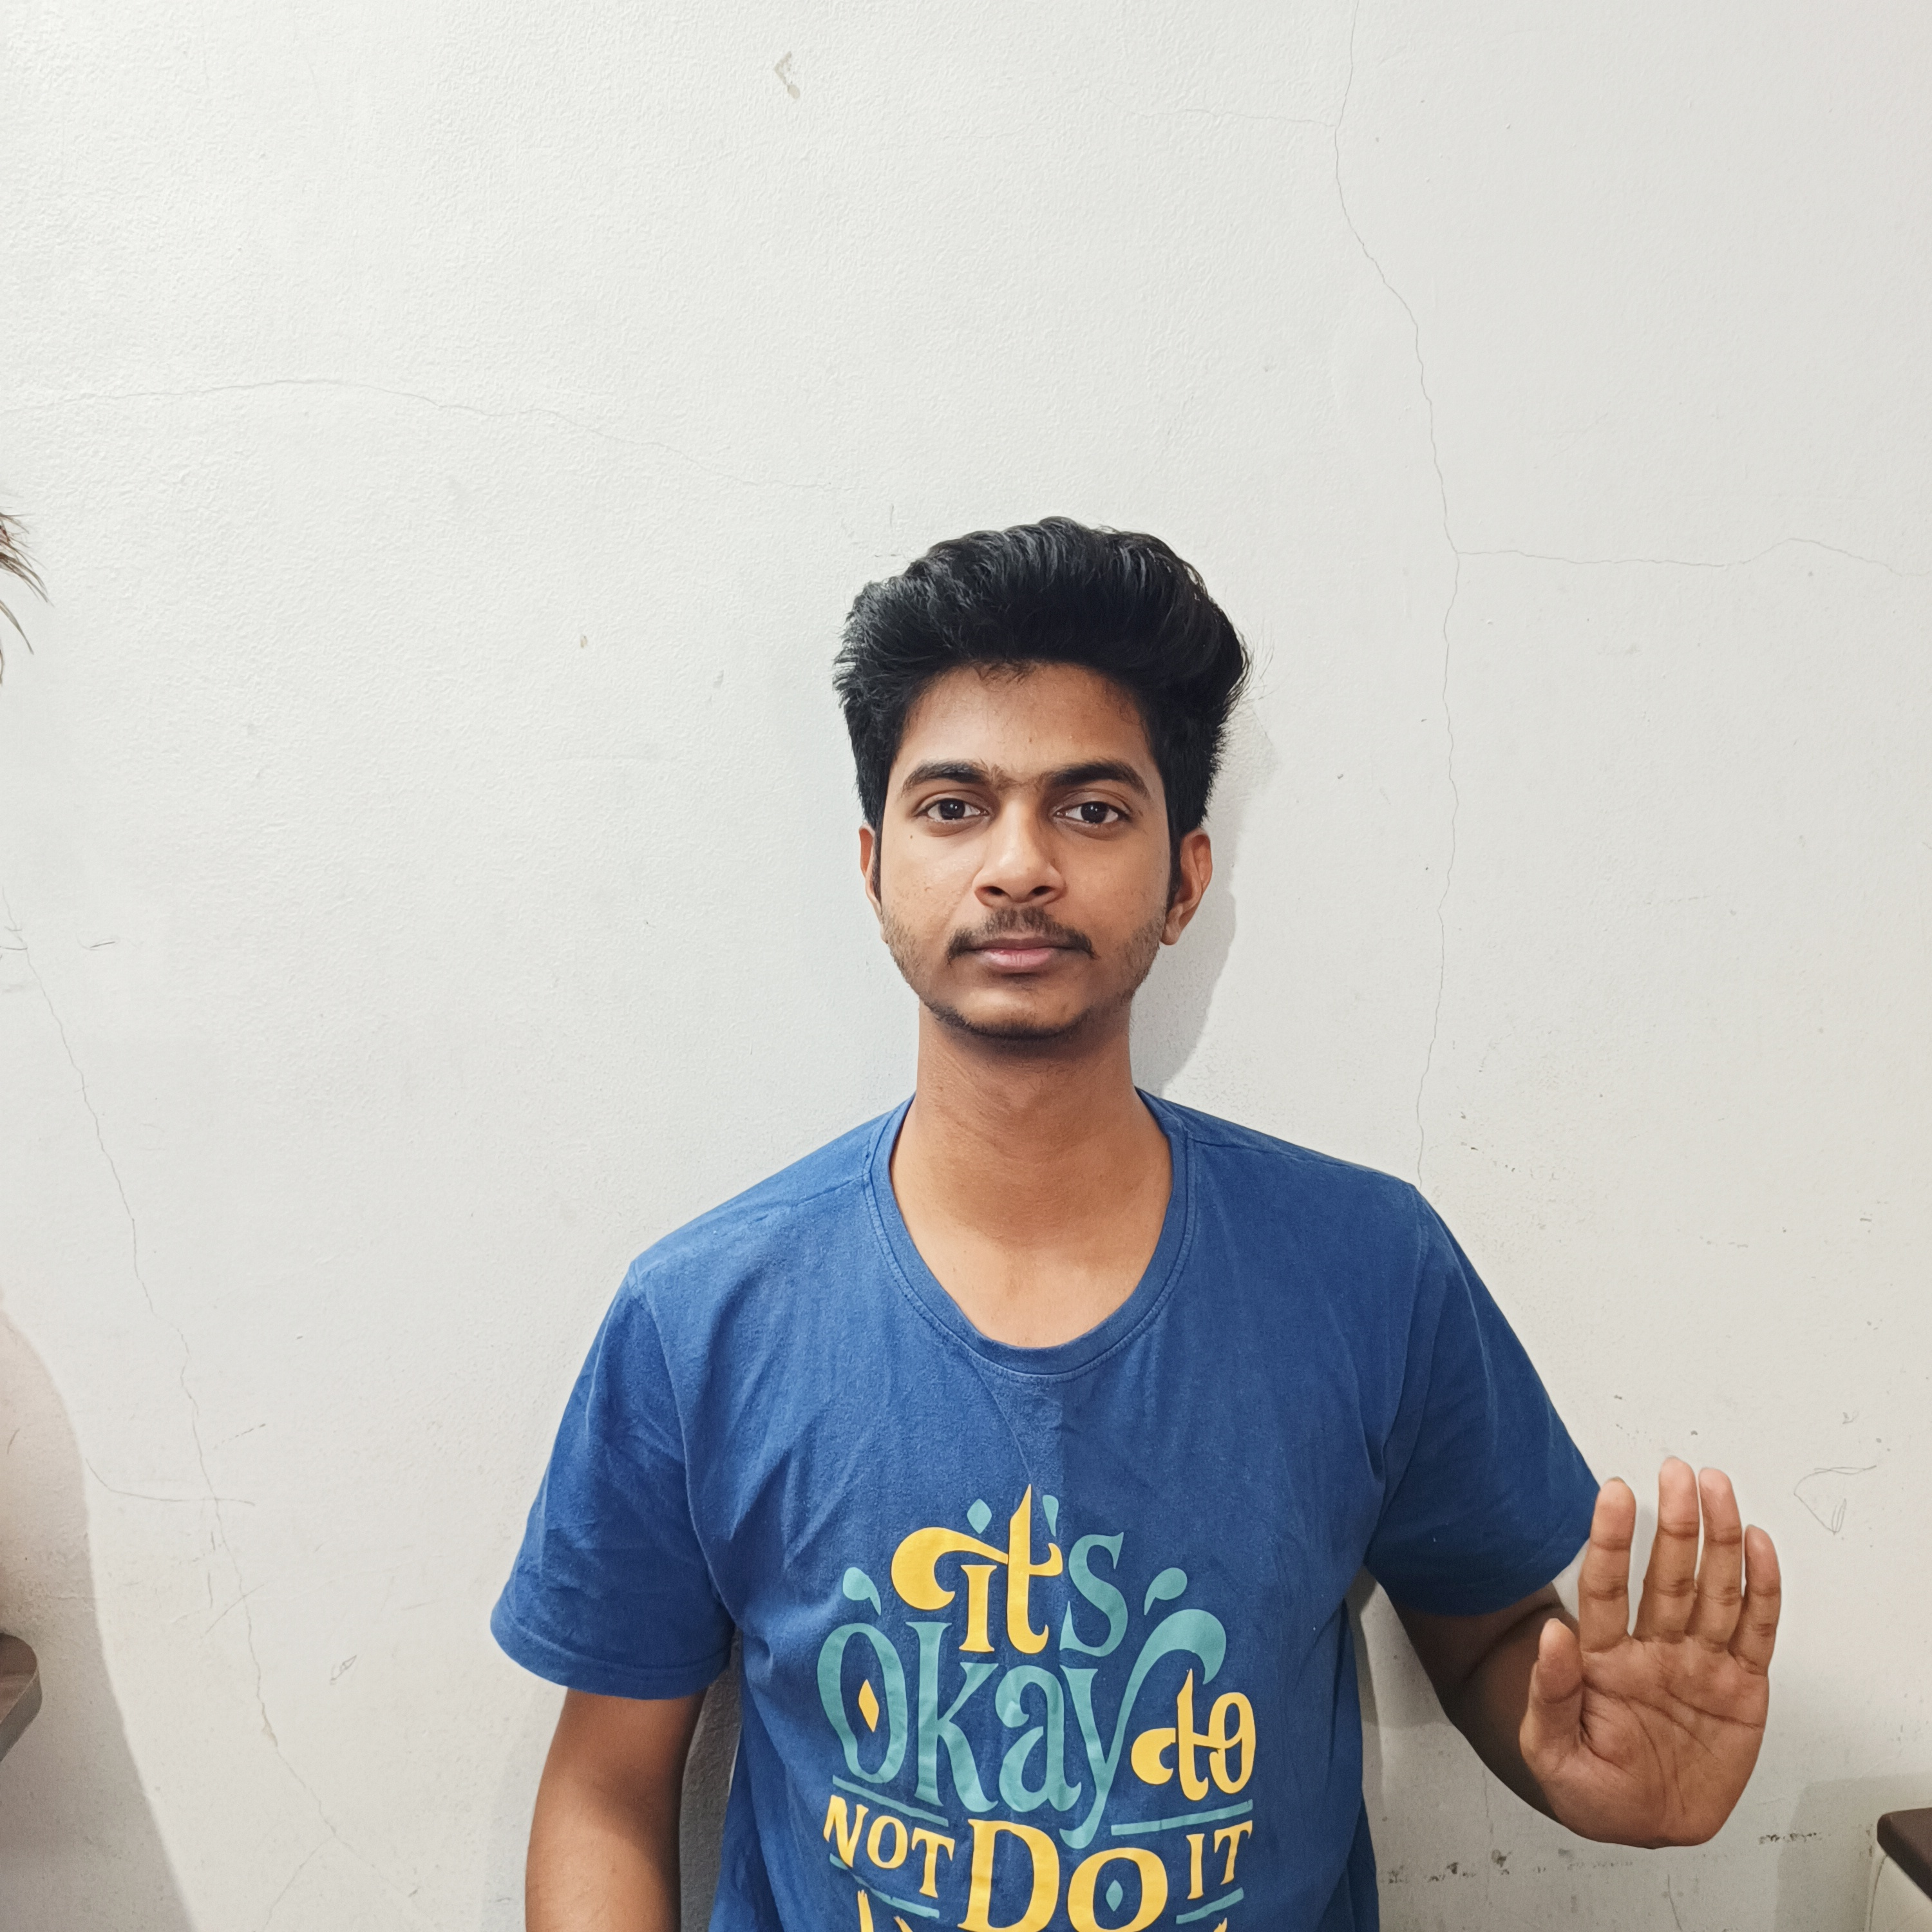Hello: (1474, 1437, 1810, 1867)
